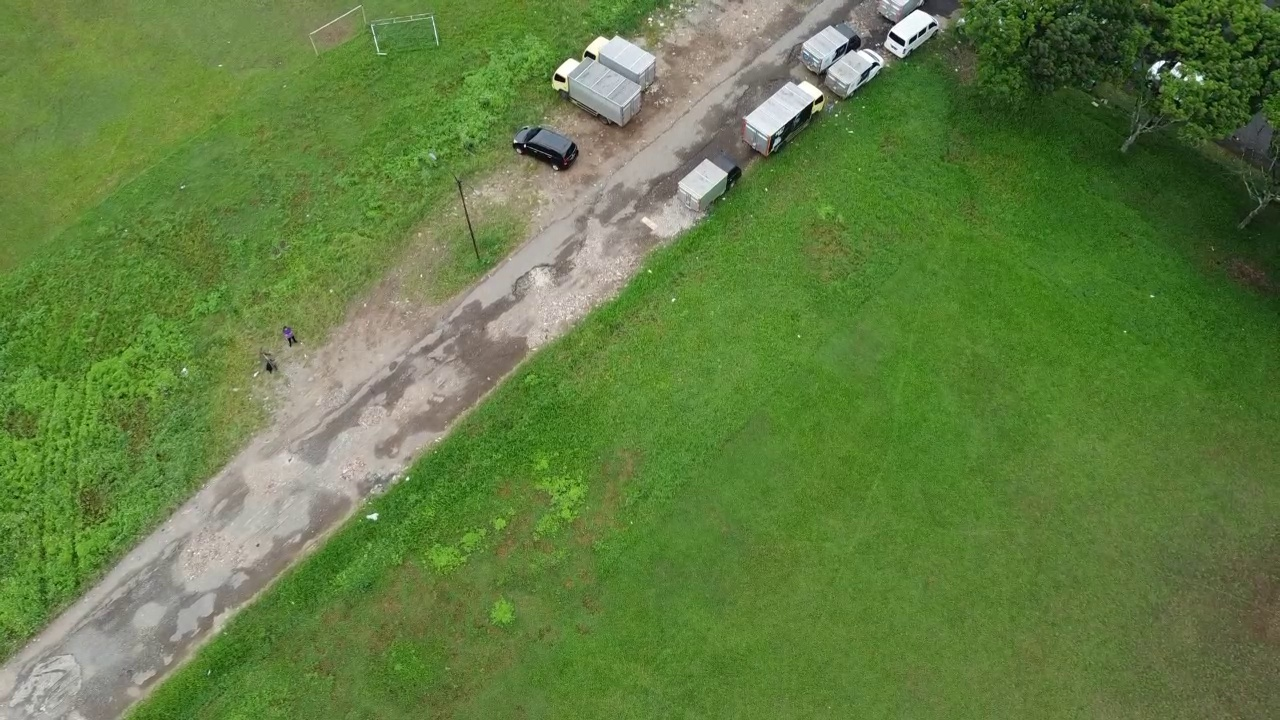mobil: (512, 123, 583, 169), (887, 10, 946, 59)
